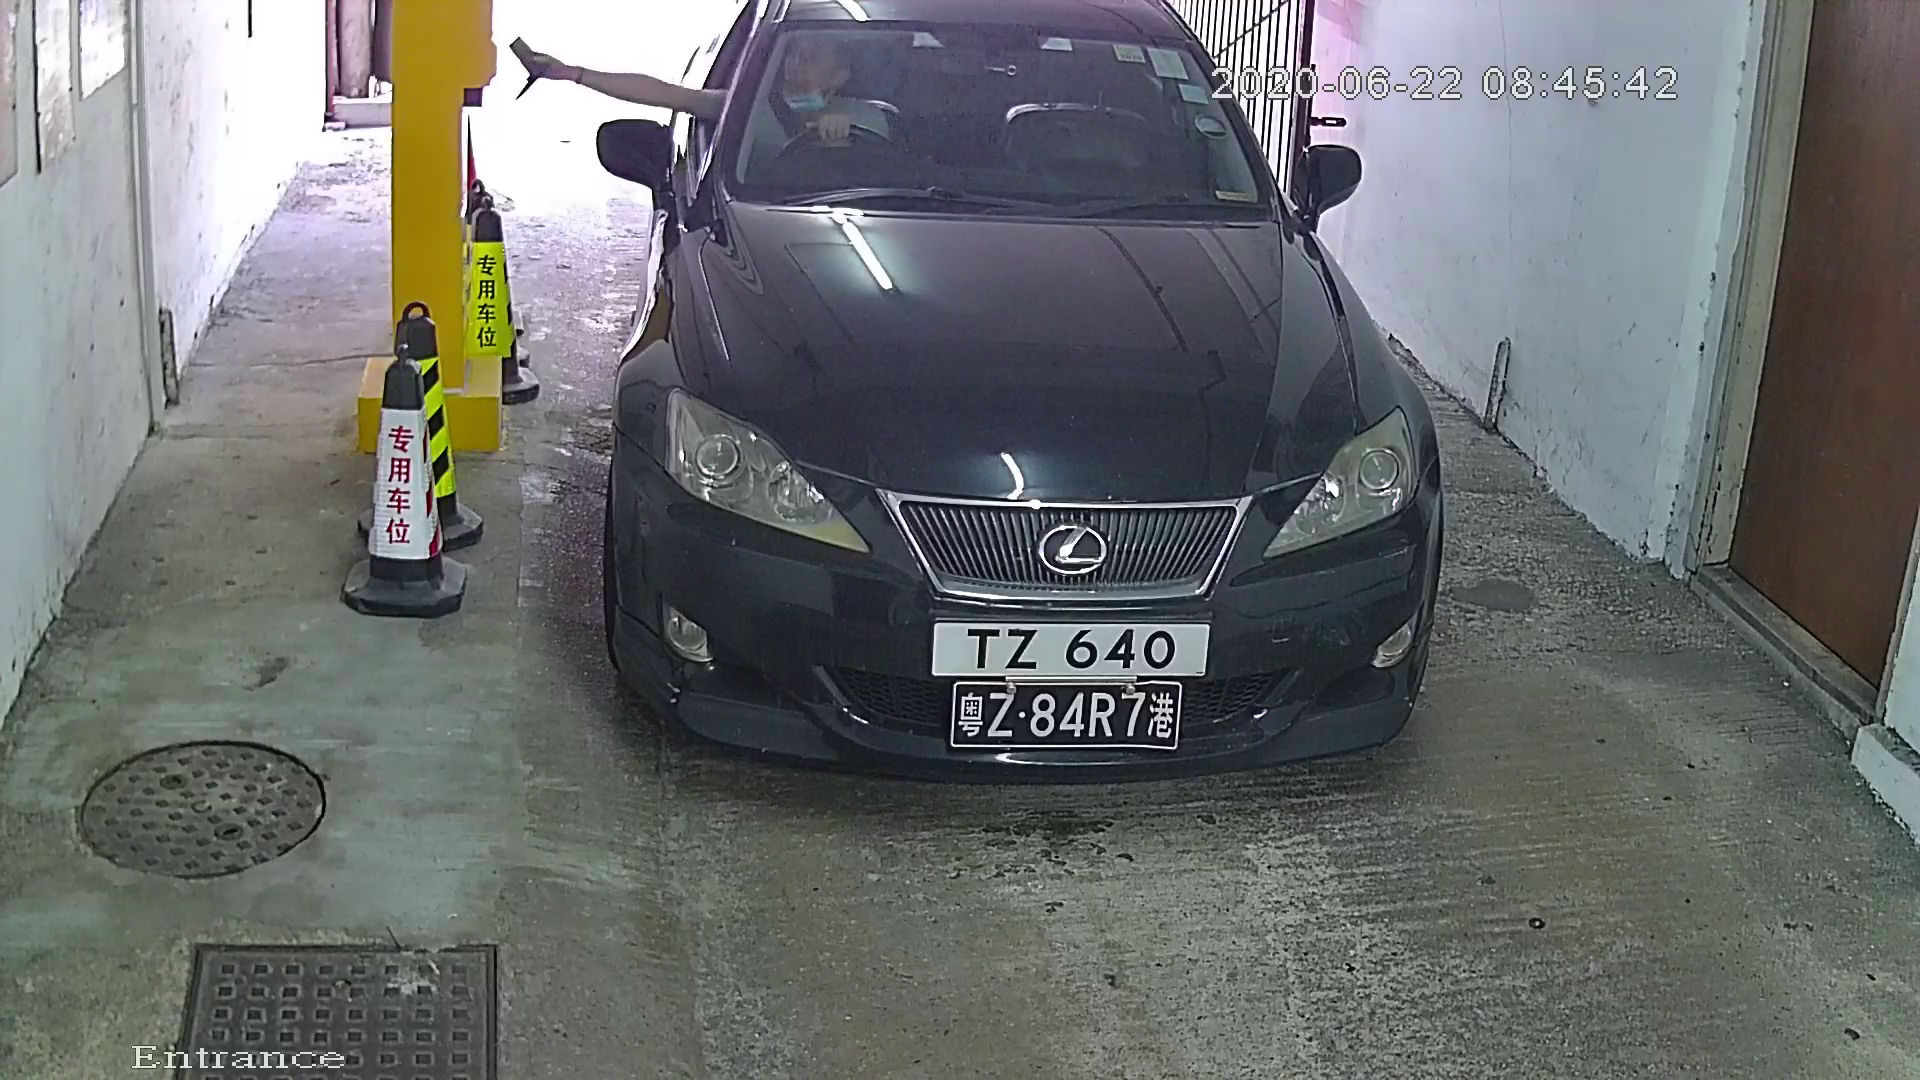privatecar: (554, 1, 1511, 829)
